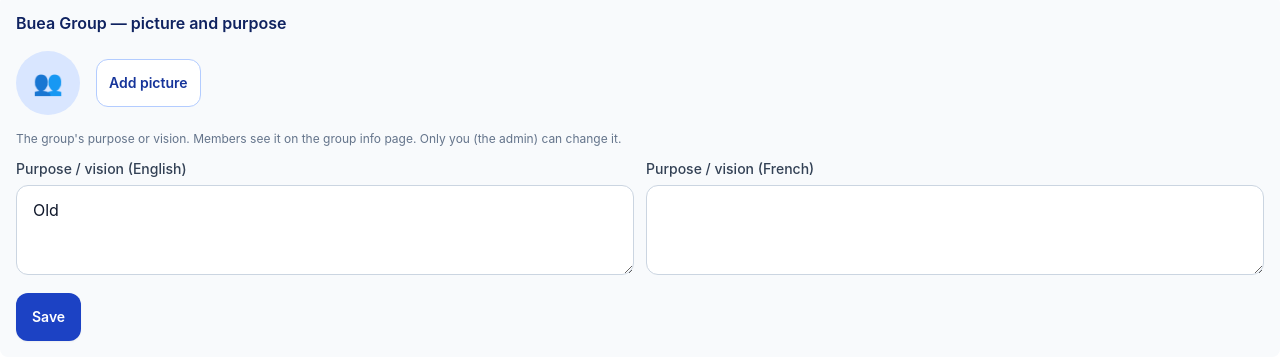
Test: Admin: group picture and purpose › saves the purpose in English and French
This screenshot has width=1280, height=359.
Replace the text in the text box labelled "Purpose / vision (English)" with "New purpose" at (325, 230), box [16,185,634,275]
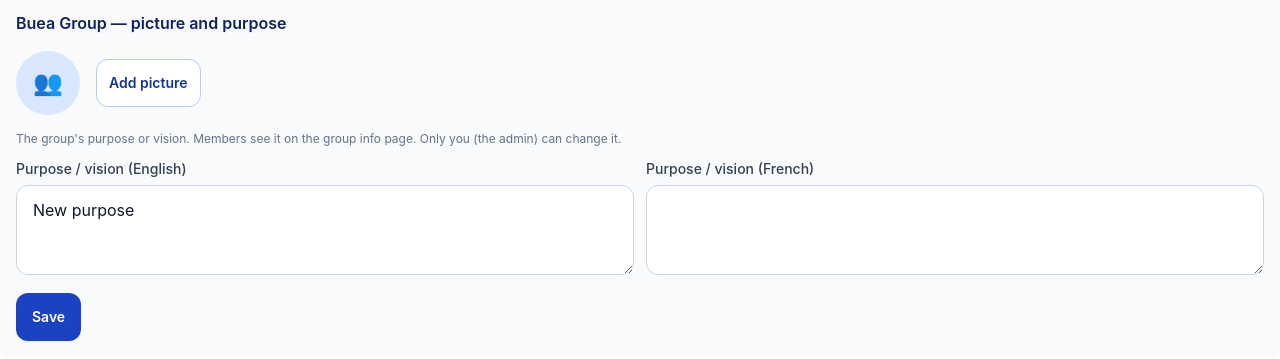
Type "Nouveau but" into the text box labelled "Purpose / vision (French)" at (955, 230), box [646,185,1264,275]
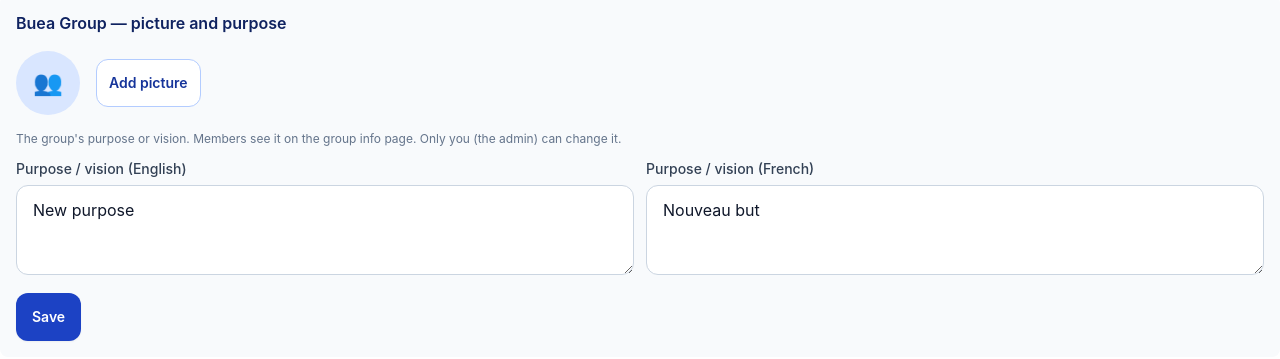
Click the button "Save" at (49, 317), box [16,293,81,341]
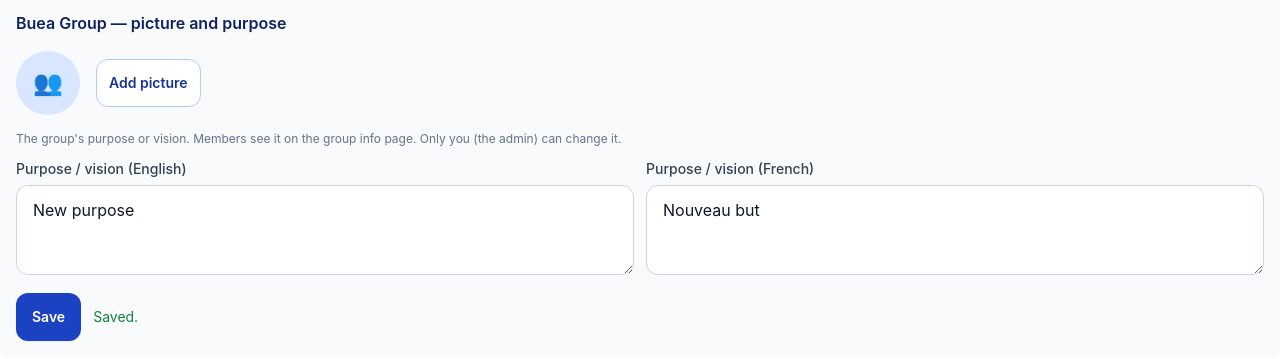
Check: the text "Saved." is shown, box [93,307,138,327]
